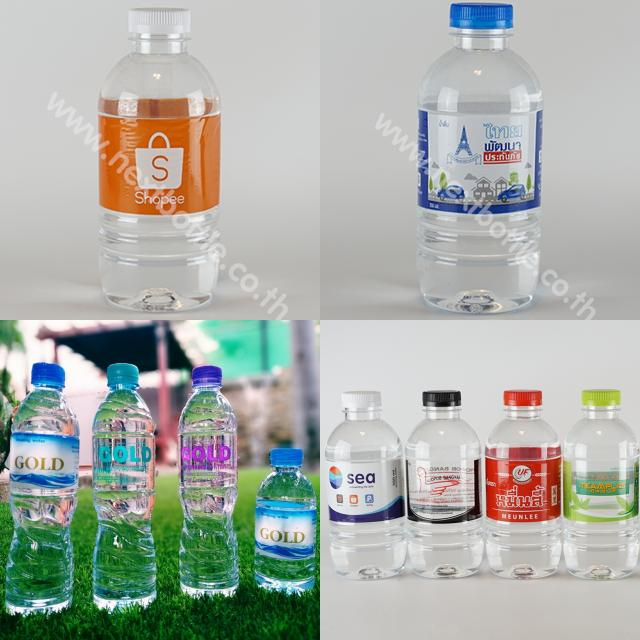plastik: (419, 4, 542, 314), (99, 9, 220, 312), (5, 362, 79, 614), (92, 364, 156, 609), (325, 391, 406, 580), (405, 390, 482, 577), (485, 390, 561, 579), (564, 390, 639, 579), (179, 366, 239, 596), (254, 449, 316, 593)
